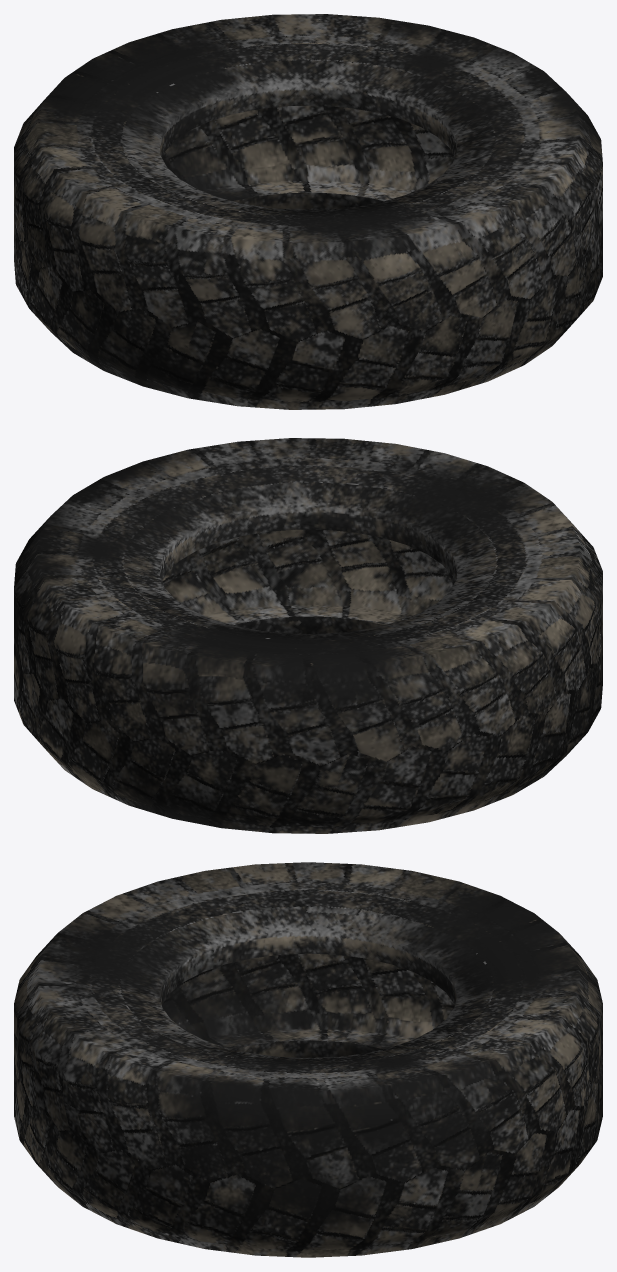
The model's file is weel_2.fbx.
The picture shows the model from 3 angles, top to bottom: view 1: azimuth 30°, elevation 25°; view 2: azimuth 150°, elevation 25°; view 3: azimuth 270°, elevation 25°; orthographic projection.
Parts seen in each view (by area): view 1: wheel_2_LOD0; view 2: wheel_2_LOD0; view 3: wheel_2_LOD0.
Part boxes in pixels (bbox=[...]): wheel_2_LOD0: bbox=[14, 14, 602, 409]; wheel_2_LOD0: bbox=[14, 438, 602, 833]; wheel_2_LOD0: bbox=[14, 862, 602, 1257].
Size of what is drawn, in the model's own units: 62.59 by 19.48 by 62.59.
